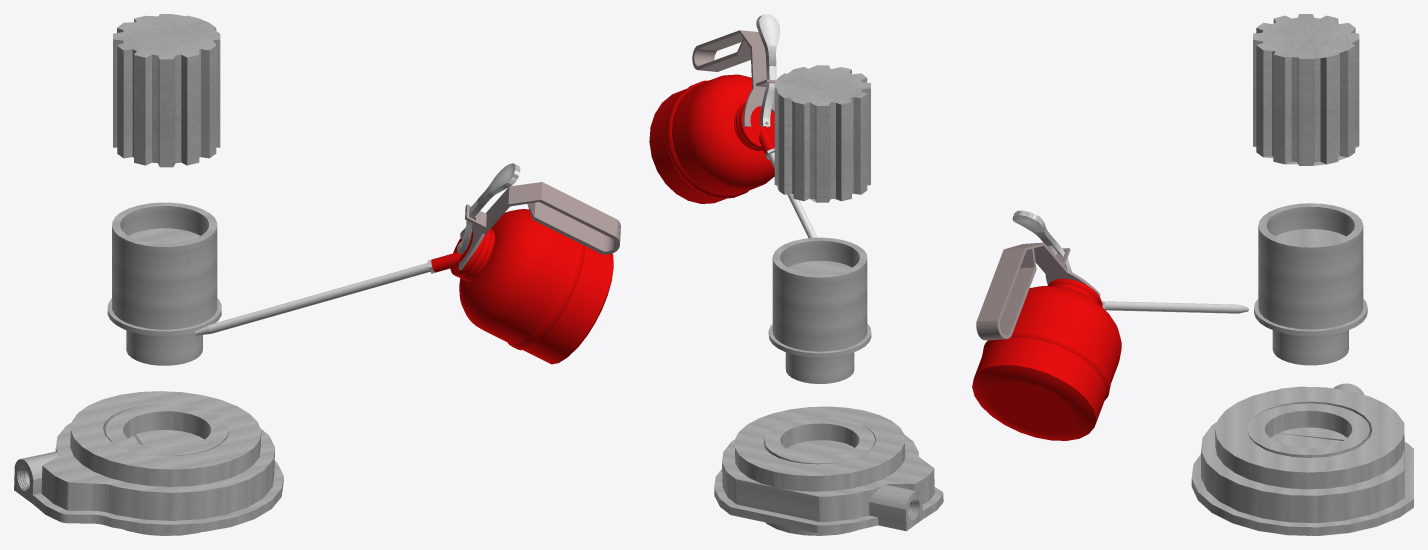
3 views of the same model, side by side, from view 1: azimuth 30°, elevation 25°; view 2: azimuth 150°, elevation 25°; view 3: azimuth 270°, elevation 25° (orthographic). The views are drawn at different scales.
Visible parts, largest first — view 1: 3, Oiler, 1, 2, 1.001; view 2: 3, Oiler, 1, 2, 1.001; view 3: Oiler, 3, 1, 2, 1.001.
Part boxes in pixels (x1=…): 3: x1=14, y1=391, x2=283, y2=535; Oiler: x1=195, y1=163, x2=620, y2=364; 1: x1=107, y1=202, x2=221, y2=365; 2: x1=113, y1=14, x2=220, y2=167; 1.001: x1=105, y1=404, x2=228, y2=455; 3: x1=714, y1=406, x2=943, y2=535; Oiler: x1=649, y1=14, x2=817, y2=238; 1: x1=768, y1=237, x2=871, y2=383; 2: x1=774, y1=65, x2=870, y2=202; 1.001: x1=764, y1=416, x2=875, y2=464; Oiler: x1=972, y1=210, x2=1248, y2=440; 3: x1=1191, y1=383, x2=1413, y2=535; 1: x1=1254, y1=203, x2=1367, y2=365; 2: x1=1253, y1=14, x2=1359, y2=165; 1.001: x1=1247, y1=403, x2=1369, y2=457.
Size of the model in its own units: 461 by 482 by 410.
8 materials, 5 textured.
